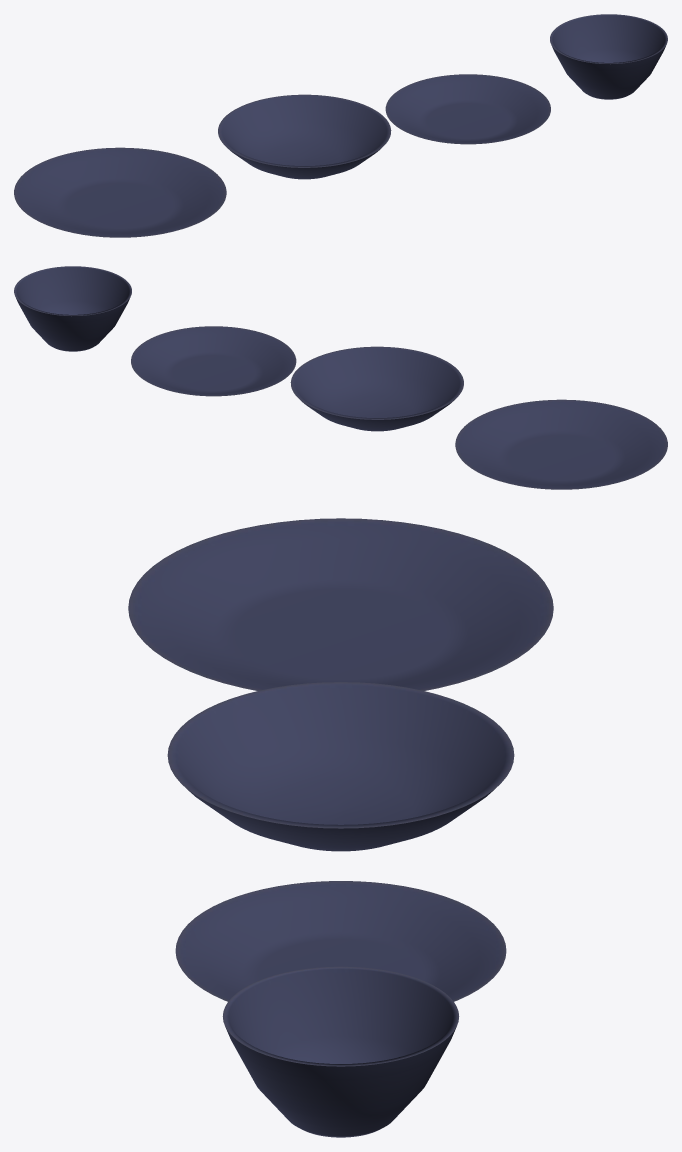
The model's file is RAY-01.glb.
3 views of the same model, one above another, from view 1: azimuth 30°, elevation 25°; view 2: azimuth 150°, elevation 25°; view 3: azimuth 270°, elevation 25° (orthographic). The views are drawn at different scales.
Size of the model in its own units: 0.926 by 0.07 by 0.27.
8 materials, 8 textured.
